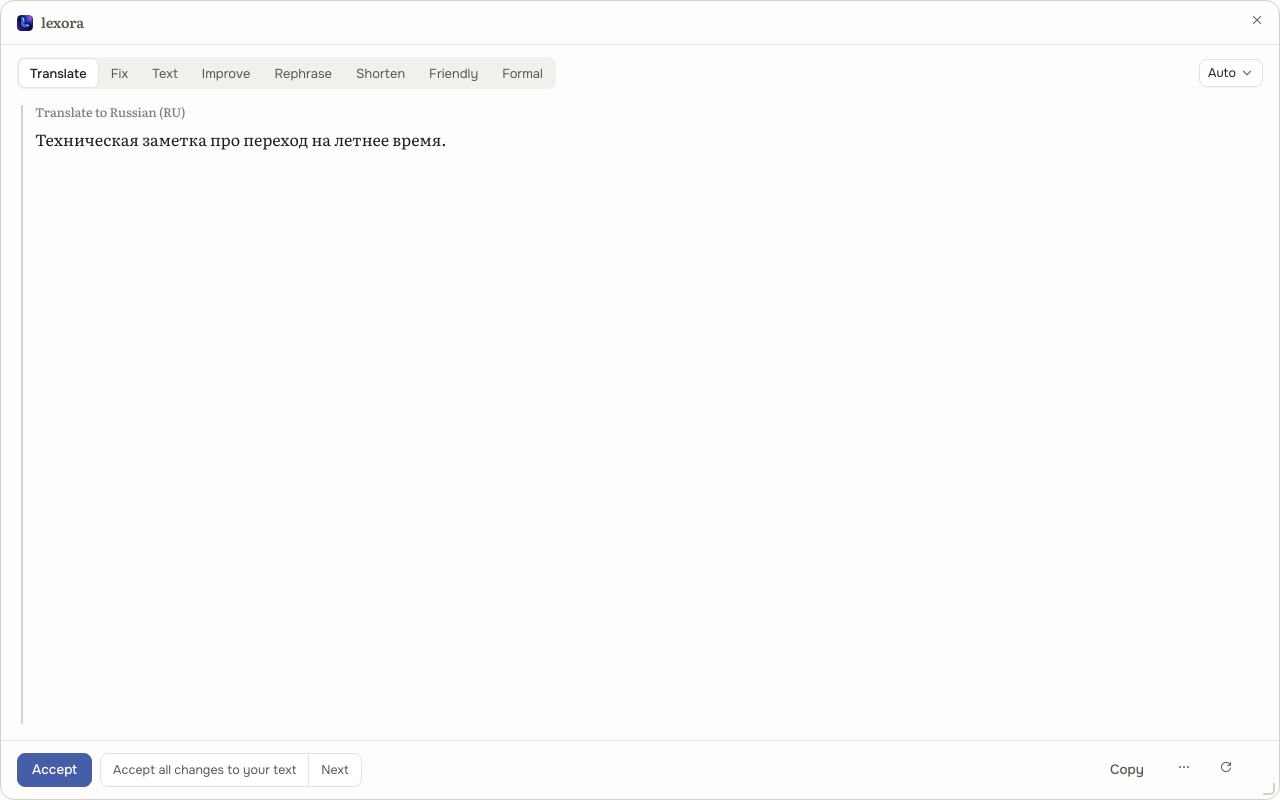
it: InlineAssistantWidget › translates composed Text-tab input into English with a register
Check: the text "Техническая заметка про переход на летнее время." is shown, box [35,127,447,151]
Step 1. Click the tab with aria-label "Text (2)" → (165,73), box [141,59,189,87]
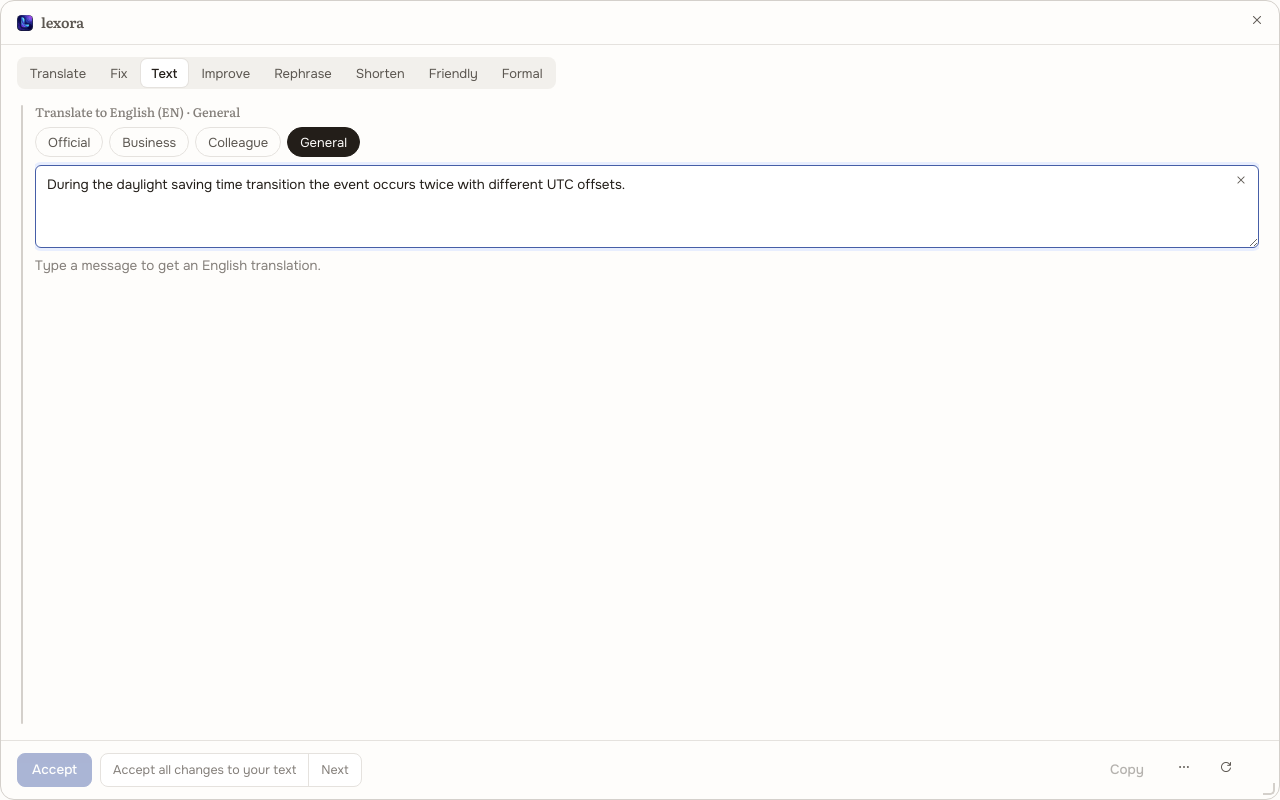
Check: the text box named "Text to translate" holds "During the daylight saving time transition the event occurs twice with different UTC offsets."
Check: the heading "Translate to English (EN) · General" is shown, box [35,105,240,121]
Step 2. Replace the text in the text box named "Text to translate" with "Прошу согласовать встречу" → (647,207), box [35,165,1259,248]
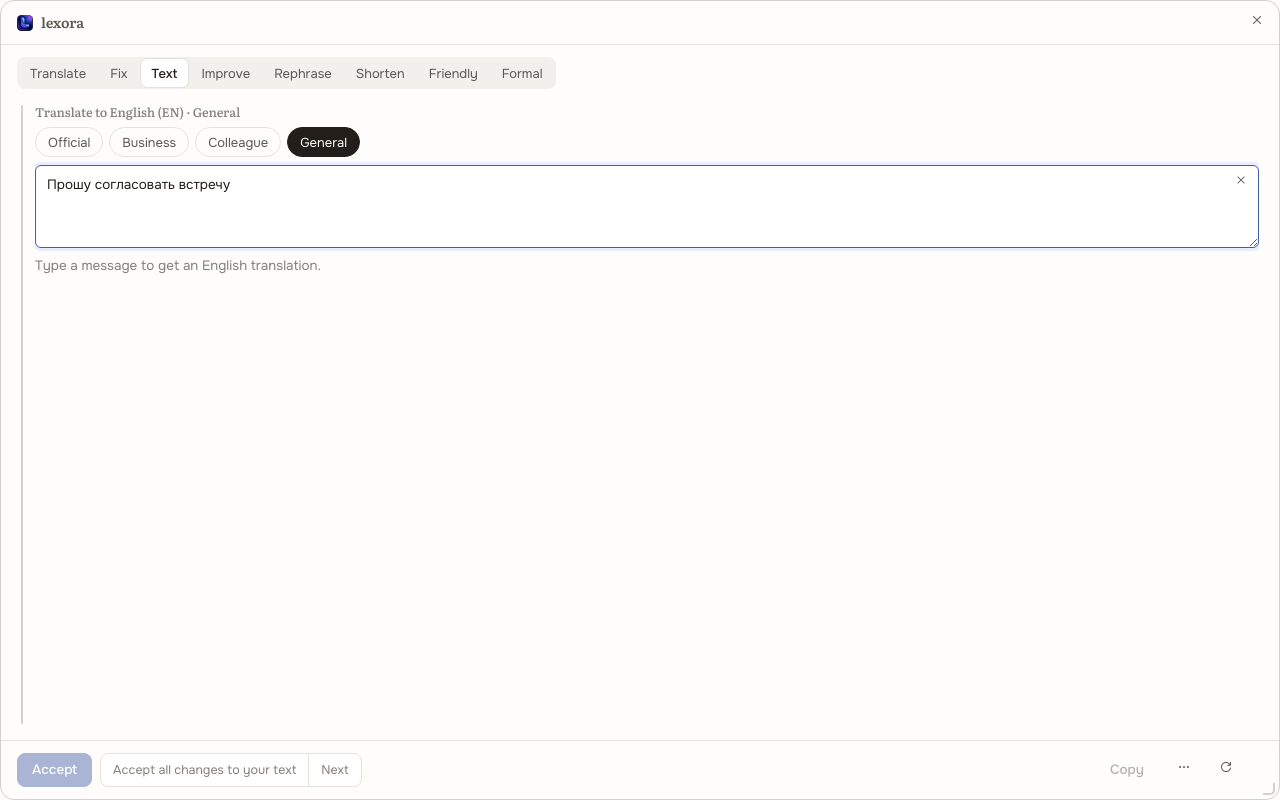
Step 3. Click the radio button labelled "Official" → (69,142), box [35,127,103,157]
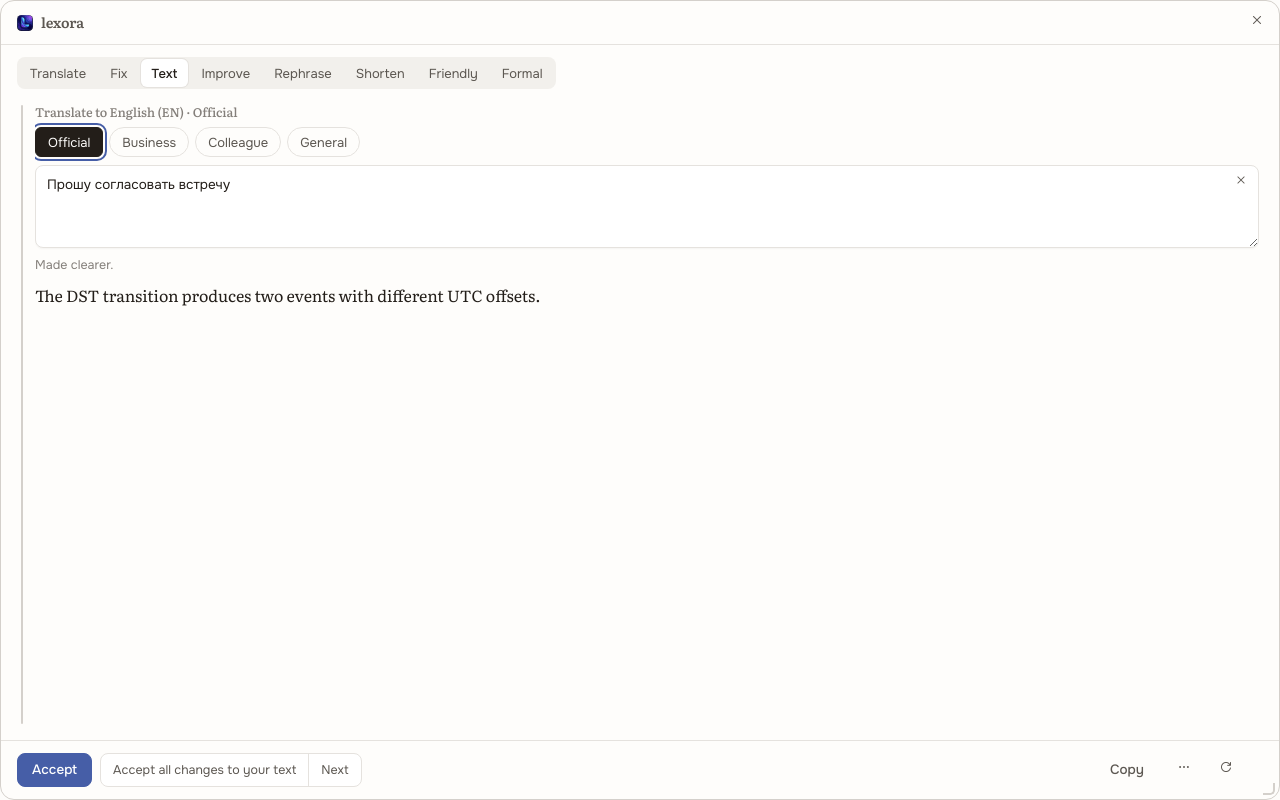
Check: the heading "Translate to English (EN) · Official" is shown, box [35,105,237,121]
